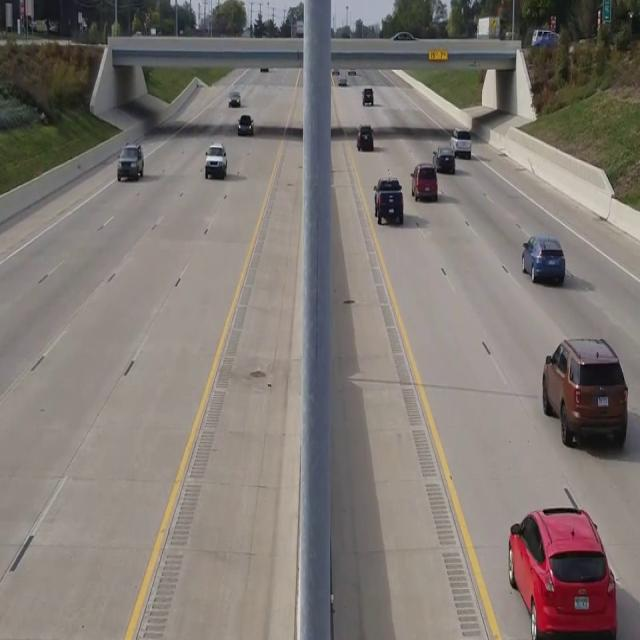car: (507, 505, 617, 640), (541, 335, 628, 448), (521, 234, 565, 286), (374, 177, 404, 224), (410, 162, 437, 202), (117, 142, 143, 180), (205, 143, 227, 179), (432, 143, 454, 173), (357, 123, 373, 151), (238, 114, 254, 135), (362, 86, 373, 105)
